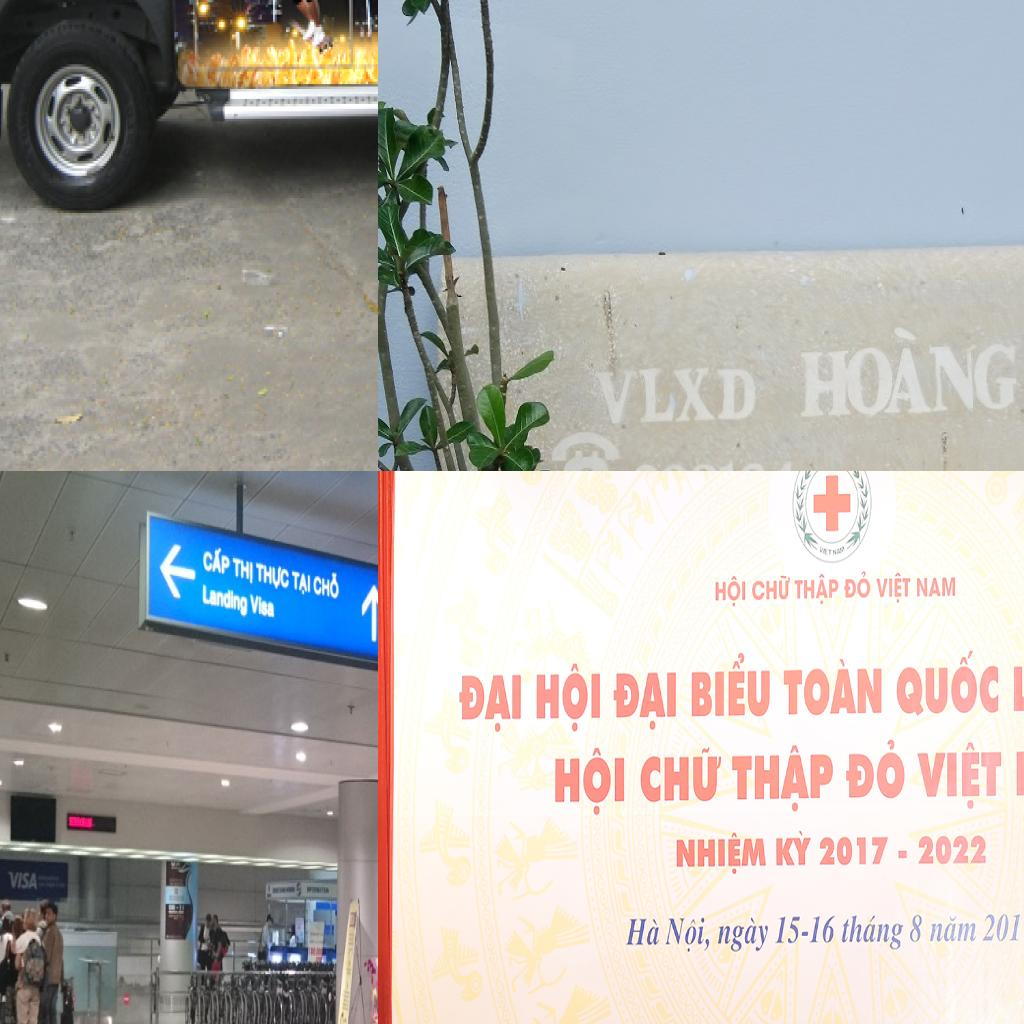text: (796, 324, 1022, 428), (599, 354, 765, 442), (892, 645, 1000, 717), (730, 743, 835, 813), (780, 651, 884, 720), (911, 736, 1004, 808), (687, 650, 772, 721), (552, 744, 628, 816), (532, 662, 605, 736), (640, 744, 724, 803), (454, 667, 523, 736), (674, 829, 766, 878), (840, 736, 905, 800), (610, 668, 679, 728), (816, 826, 893, 873), (631, 450, 800, 471), (716, 909, 773, 960), (840, 909, 904, 952), (916, 832, 992, 864), (771, 824, 815, 872), (664, 913, 714, 955), (930, 909, 981, 950), (200, 580, 248, 621), (979, 904, 1024, 946), (624, 909, 667, 952), (874, 566, 912, 606), (795, 573, 840, 603), (750, 568, 793, 599), (914, 570, 959, 599), (256, 558, 290, 594), (1007, 643, 1024, 711), (712, 573, 747, 606), (772, 909, 803, 946), (202, 541, 232, 579), (808, 908, 838, 945), (312, 568, 342, 604), (842, 568, 874, 600), (248, 589, 276, 622), (908, 908, 927, 949), (232, 555, 254, 587), (8, 869, 38, 891), (291, 568, 311, 598), (817, 543, 834, 559), (832, 540, 847, 557)
